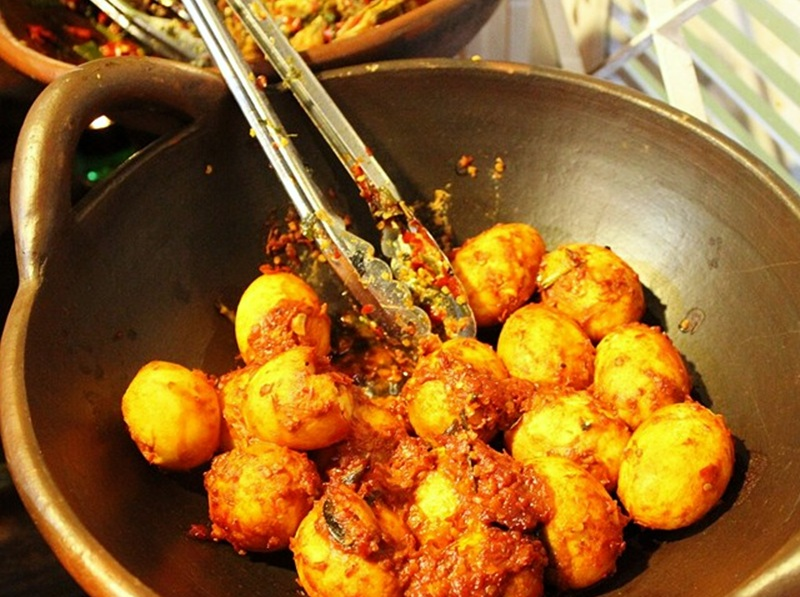Telur Balado: (74, 83, 792, 591)
